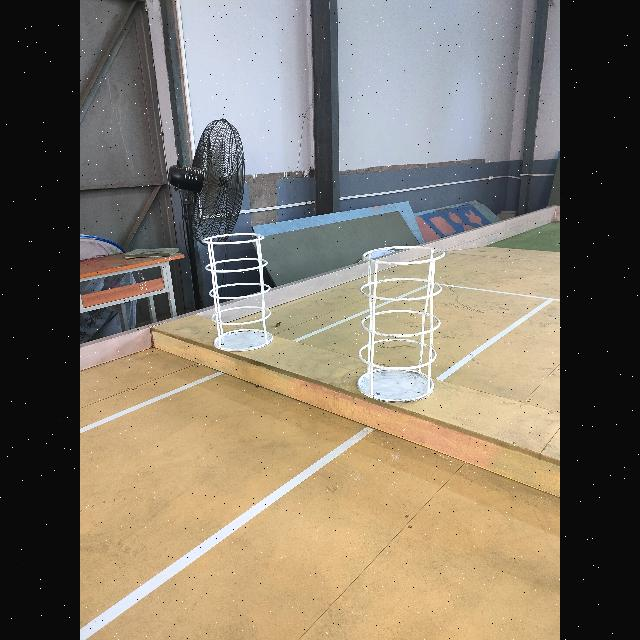S: (352, 242, 448, 402), (202, 232, 276, 352)
